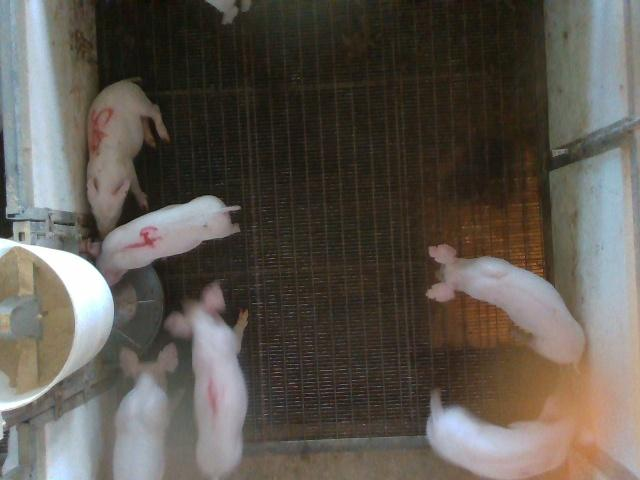pig-1: (165, 282, 249, 478)
pig-4: (96, 195, 240, 284)
pig-5: (88, 79, 170, 237)
